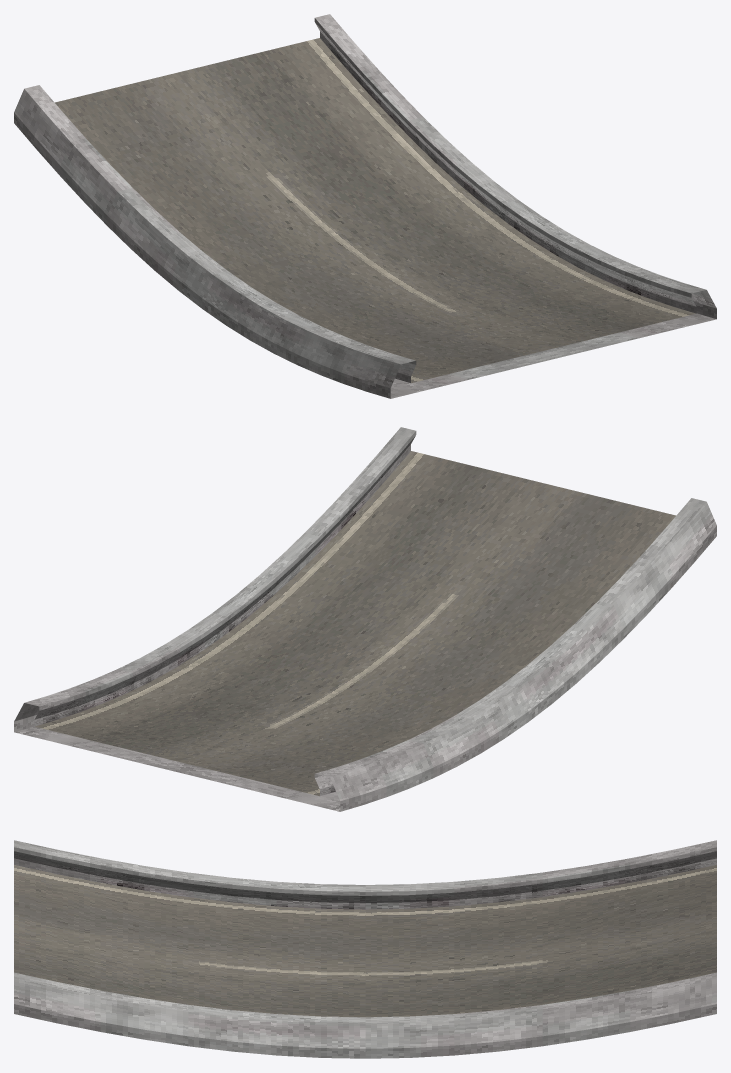
File: road-Straight-BiSlopeDown-BiSlopeUp-Even-Center-Size2.glb
3 views of the same model, one above another, from view 1: azimuth 30°, elevation 25°; view 2: azimuth 150°, elevation 25°; view 3: azimuth 270°, elevation 25° (orthographic). The views are drawn at different scales.
Visible parts, largest first — view 1: road-Straight-BiSlopeDown-BiSlopeUp-Even-Center-Size2; view 2: road-Straight-BiSlopeDown-BiSlopeUp-Even-Center-Size2; view 3: road-Straight-BiSlopeDown-BiSlopeUp-Even-Center-Size2.
Boxes of the visible parts, box(x1,y1,x2,y2) form: road-Straight-BiSlopeDown-BiSlopeUp-Even-Center-Size2: box(14, 14, 716, 398); road-Straight-BiSlopeDown-BiSlopeUp-Even-Center-Size2: box(14, 427, 716, 811); road-Straight-BiSlopeDown-BiSlopeUp-Even-Center-Size2: box(14, 840, 716, 1058).
Bounding box in the file's own units: 1 × 0.2344 × 2.
Materials: 2 (2 with a texture image).
